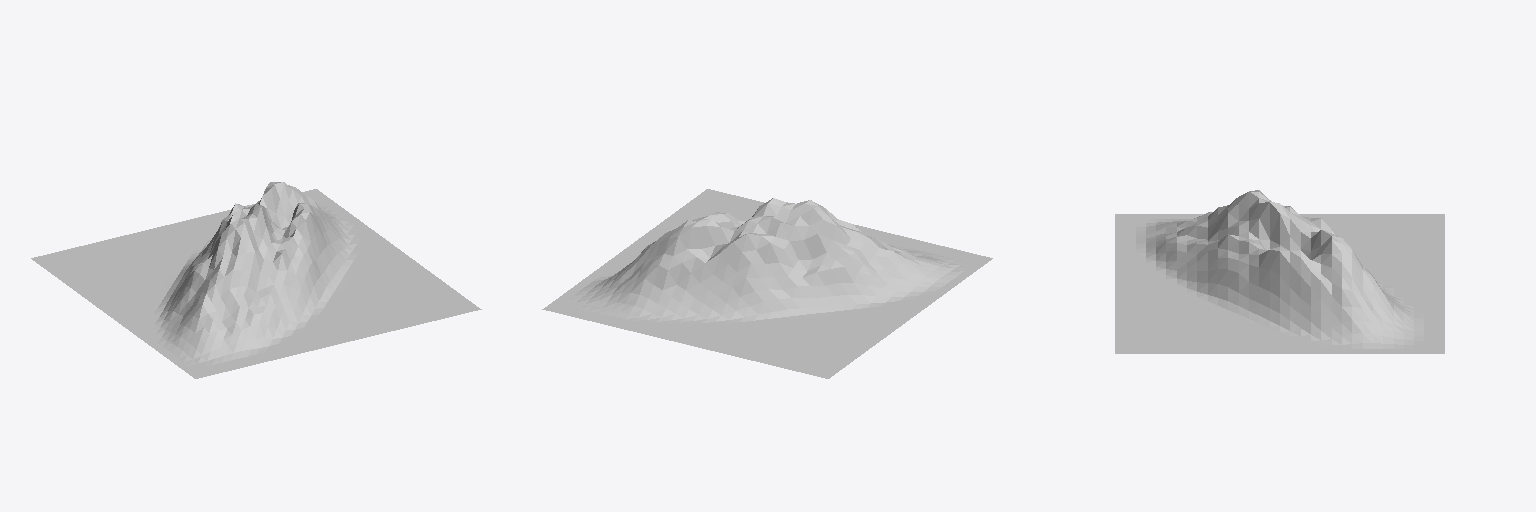
The model's file is mou_007.obj.
The picture shows the model from 3 angles: view 1: azimuth 30°, elevation 25°; view 2: azimuth 150°, elevation 25°; view 3: azimuth 270°, elevation 25°; orthographic projection.
Parts seen in each view (by area): view 1: 平面.001; view 2: 平面.001; view 3: 平面.001.
Part boxes in pixels (x1,y1,x2,y2): 平面.001: (31,182,481,378); 平面.001: (542,189,992,378); 平面.001: (1115,190,1444,353).
Bounding box in the file's own units: 261 × 94.61 × 261.